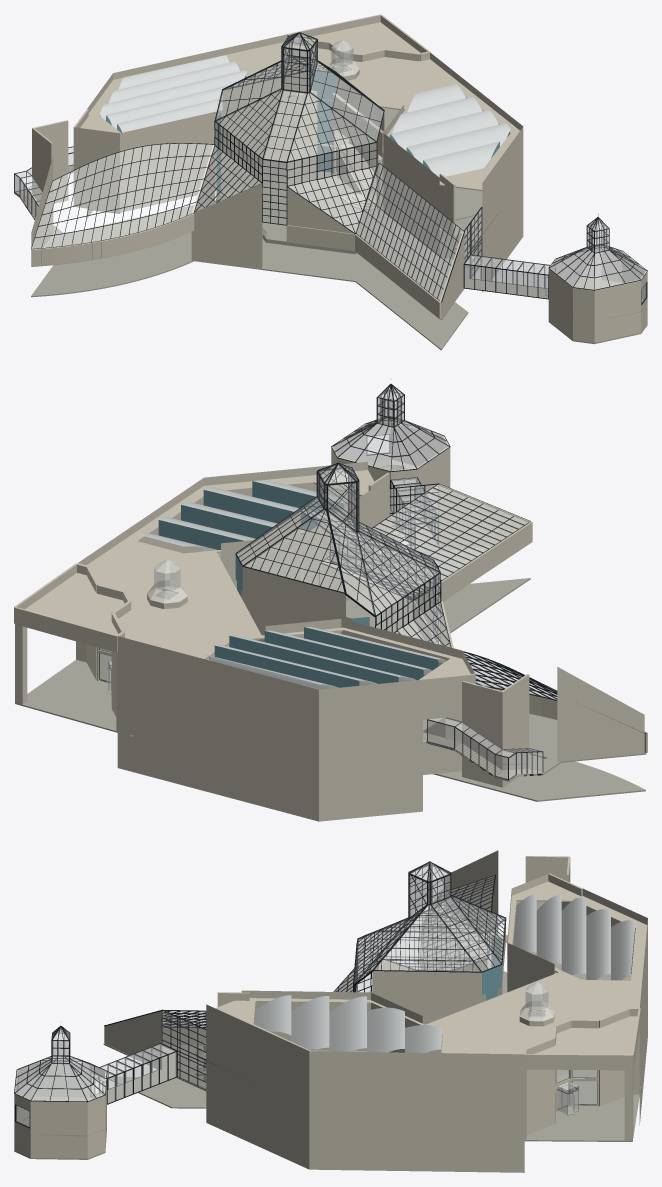
Rendered from MUDAM_R18_PAVYON_GECIT_DETAY_v002_preview.glb.
3 views of the same model, one above another, from view 1: azimuth 30°, elevation 25°; view 2: azimuth 150°, elevation 25°; view 3: azimuth 270°, elevation 25° (orthographic). The views are drawn at different scales.
Visible parts, largest first — view 1: P05_ZONE_LM1_GALLERIES_FOYER, P05_MAIN_ROOF_DECK, P05_GALLERY_HALL_WEST1, P05_MAIN_ATRIUM_BASE_3, R07_STAIRWELL_STONE_NORTH, P05_FRONT_0, P05_GALLERY_HALL_EAST1, P05_FLOOR_L00_GH, P05_GALLERY_HALL_WEST2, P05_FLOOR_L00_EAST_GARDEN, R17_WALL_0, P05_FLOOR_L00_WEST_CAFE (+24 smaller); view 2: P05_FRONT_9, P05_MAIN_ROOF_DECK, P05_FRONT_10, P05_ZONE_LM1_GALLERIES_FOYER, P05_WEST_END, P07_CANOPY_PAVING_DISPLAY, P05_GALLERY_HALL_EAST1, R14_INNER_WALL_B, R11_STONE_END, P07_CANOPY_SLAB_ENVELOPE, P05_FLOOR_L00_EAST_GARDEN, P06_HIGH_EAVE_UPSTAND_3 (+30 smaller); view 3: P05_FRONT_1, P05_MAIN_ROOF_DECK, P05_FRONT_0, R17_WALL_6, P07_CANOPY_PAVING_DISPLAY, P06_HIGH_EAVE_UPSTAND_5, P07_CANOPY_SLAB_ENVELOPE, P05_WEST_END, R11_STONE_END, P07_ENTRY_RETURN_1, P07_CANOPY_FASCIA_0, P05_MAIN_ATRIUM_BASE_5_R02_BEFORE_R04_ABOVE (+18 smaller).
Part boxes in pixels (x1=…): P05_ZONE_LM1_GALLERIES_FOYER: x1=31, y1=232, x2=468, y2=350; P05_MAIN_ROOF_DECK: x1=75, y1=42, x2=522, y2=190; P05_GALLERY_HALL_WEST1: x1=120, y1=110, x2=224, y2=212; P05_MAIN_ATRIUM_BASE_3: x1=221, y1=91, x2=317, y2=191; R07_STAIRWELL_STONE_NORTH: x1=191, y1=183, x2=262, y2=269; P05_FRONT_0: x1=482, y1=127, x2=523, y2=292; P05_GALLERY_HALL_EAST1: x1=383, y1=133, x2=439, y2=256; P05_FLOOR_L00_GH: x1=216, y1=172, x2=383, y2=251; P05_GALLERY_HALL_WEST2: x1=73, y1=127, x2=119, y2=212; P05_FLOOR_L00_EAST_GARDEN: x1=357, y1=213, x2=482, y2=319; R17_WALL_0: x1=594, y1=279, x2=640, y2=342; P05_FLOOR_L00_WEST_CAFE: x1=31, y1=200, x2=215, y2=266; P05_FRONT_9: x1=117, y1=636, x2=318, y2=821; P05_MAIN_ROOF_DECK: x1=87, y1=470, x2=475, y2=699; P05_FRONT_10: x1=319, y1=679, x2=422, y2=821; P05_ZONE_LM1_GALLERIES_FOYER: x1=433, y1=578, x2=645, y2=801; P05_WEST_END: x1=557, y1=667, x2=644, y2=761; P07_CANOPY_PAVING_DISPLAY: x1=15, y1=660, x2=117, y2=732; P05_GALLERY_HALL_EAST1: x1=303, y1=484, x2=379, y2=601; R14_INNER_WALL_B: x1=462, y1=681, x2=503, y2=787; R11_STONE_END: x1=439, y1=484, x2=530, y2=550; P07_CANOPY_SLAB_ENVELOPE: x1=25, y1=573, x2=124, y2=635; P05_FLOOR_L00_EAST_GARDEN: x1=346, y1=546, x2=492, y2=623; P06_HIGH_EAVE_UPSTAND_3: x1=242, y1=567, x2=345, y2=618; P05_FRONT_1: x1=309, y1=1051, x2=524, y2=1172; P05_MAIN_ROOF_DECK: x1=207, y1=881, x2=647, y2=1062; P05_FRONT_0: x1=206, y1=1004, x2=309, y2=1169; R17_WALL_6: x1=30, y1=1100, x2=87, y2=1158; P07_CANOPY_PAVING_DISPLAY: x1=524, y1=1094, x2=639, y2=1141; P06_HIGH_EAVE_UPSTAND_5: x1=372, y1=971, x2=481, y2=994; P07_CANOPY_SLAB_ENVELOPE: x1=535, y1=1016, x2=637, y2=1054; P05_WEST_END: x1=444, y1=850, x2=498, y2=935; R11_STONE_END: x1=104, y1=1011, x2=163, y2=1069; P07_ENTRY_RETURN_1: x1=524, y1=1037, x2=554, y2=1134; P07_CANOPY_FASCIA_0: x1=524, y1=1054, x2=632, y2=1070; P05_MAIN_ATRIUM_BASE_5_R02_BEFORE_R04_ABOVE: x1=381, y1=993, x2=480, y2=1024.
Bounding box in the file's own units: 80.45 × 35.94 × 93.32.
